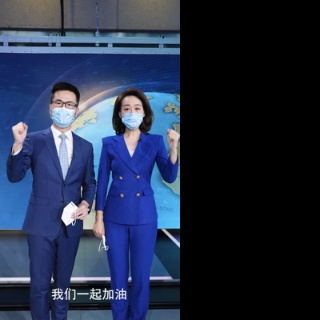with_mask: (50, 99, 76, 128), (121, 103, 144, 131)
